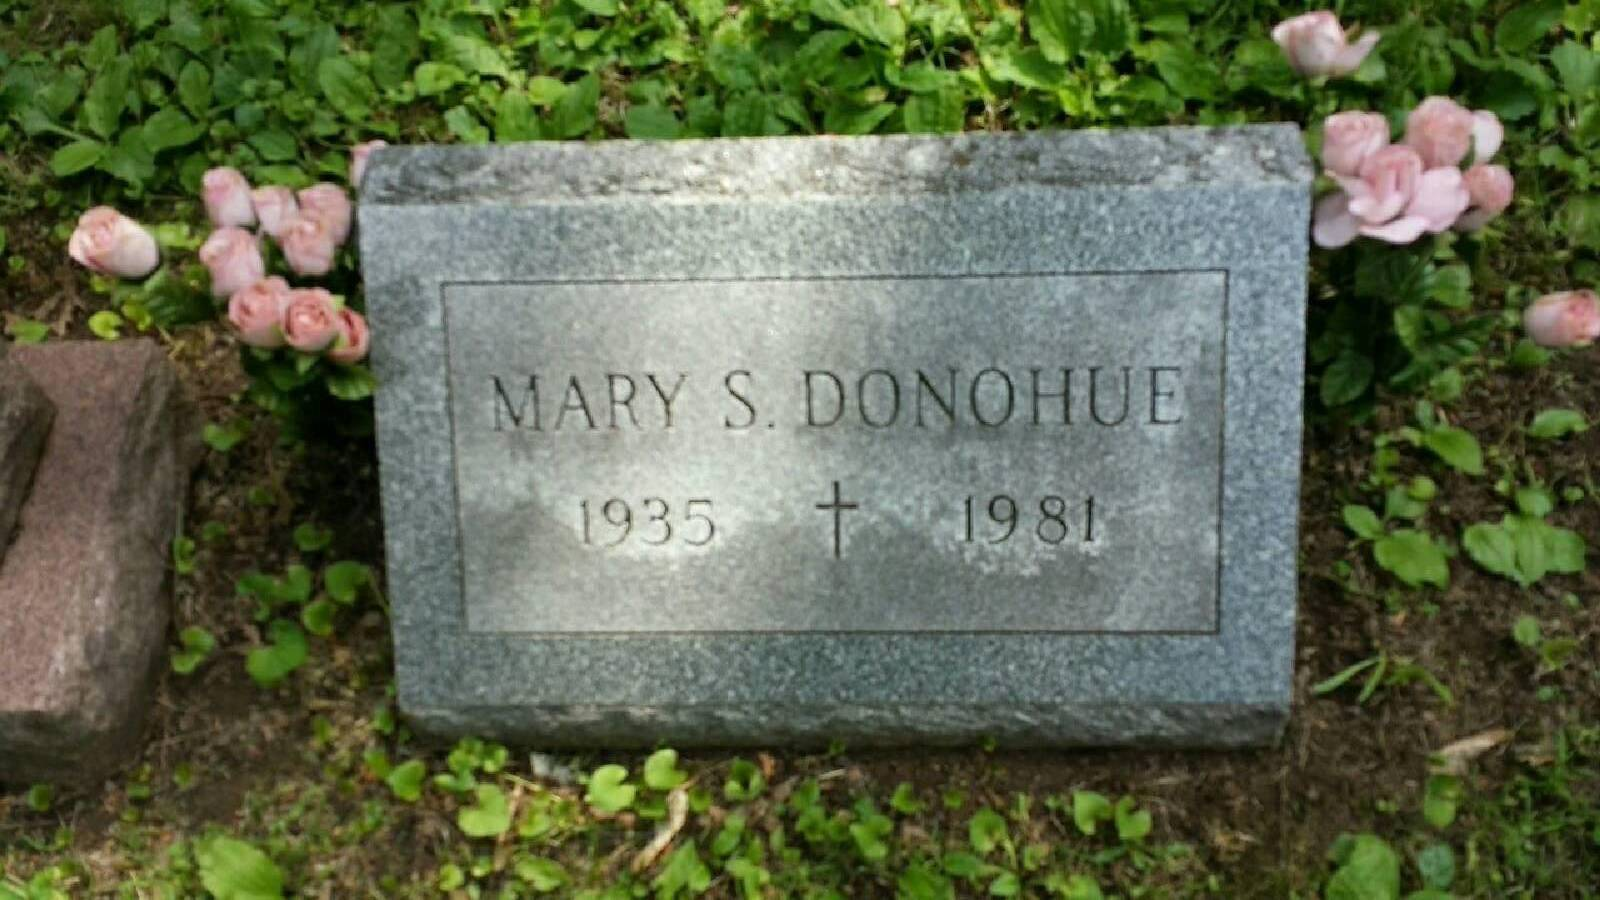upright: (323, 73, 1362, 763)
